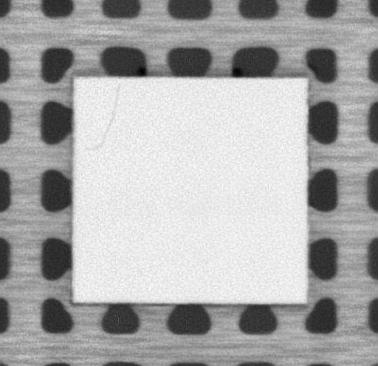DIE_CRACK: (85, 82, 121, 151)
